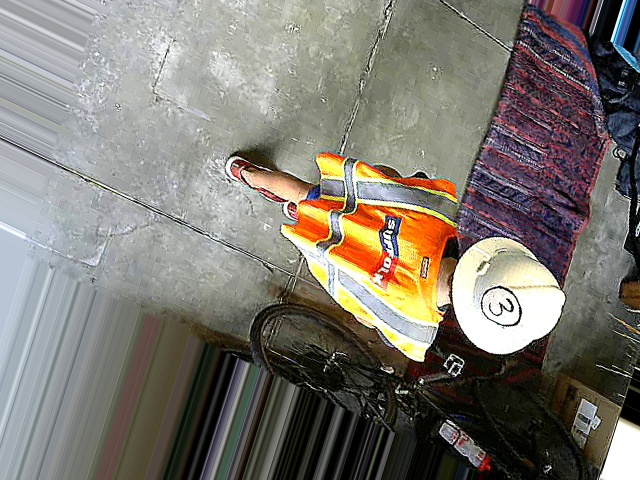three: (475, 278, 527, 333)
